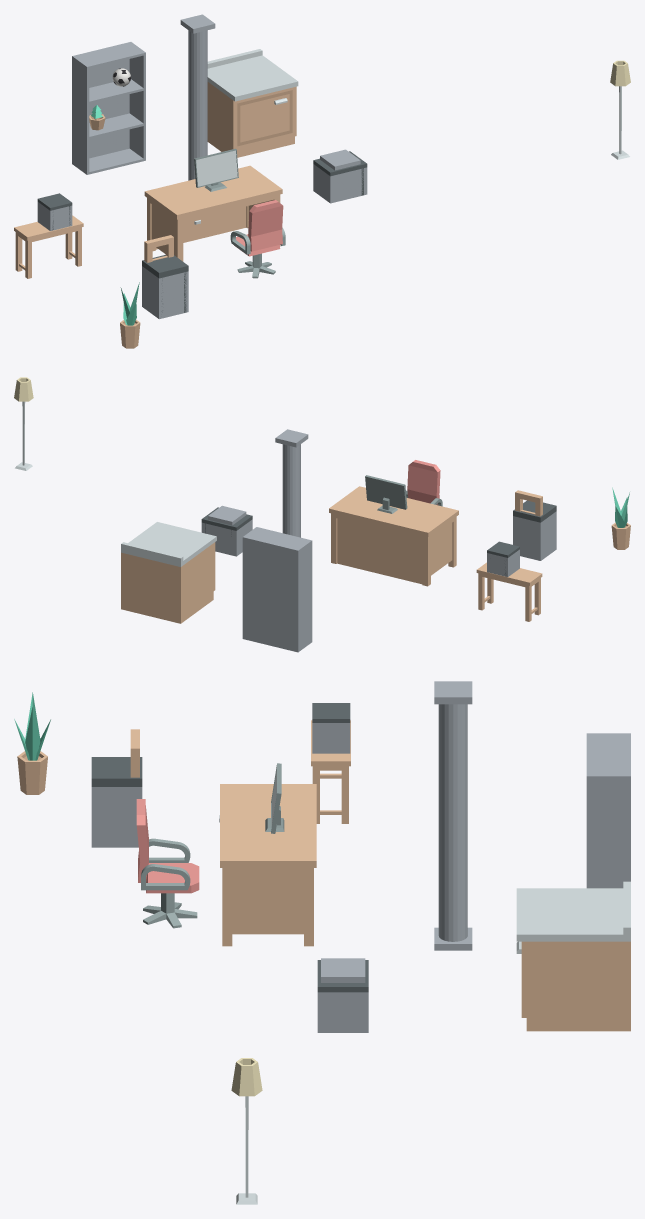
3 views of the same model, one above another, from view 1: azimuth 30°, elevation 25°; view 2: azimuth 150°, elevation 25°; view 3: azimuth 270°, elevation 25° (orthographic). The views are drawn at different scales.
Parts seen in each view (by area): view 1: desk_blue__desk(Clone), cabinet_blue__kitchenCabinet(Clone), column_cyan__column_cyan shaft, cabinet_blue__door, shelf_orange__shelf_orange back, deskchair_black__chair, shelf_orange__shelf_orange side_l, bin_gray__bin_gray shell, sidetable_brown__sideTable(Clone), crate_red__crate_red shell, monitor_gray__computerScreen(Clone), shelf_orange__shelf_orange side_r (+10 smaller); view 2: desk_blue__desk(Clone), cabinet_blue__kitchenCabinet(Clone), shelf_orange__shelf_orange back, shelf_orange__shelf_orange side_l, column_cyan__column_cyan shaft, bin_gray__bin_gray shell, sidetable_brown__sideTable(Clone), deskchair_black__chair, monitor_gray__computerScreen(Clone), crate_red__crate_red shell, shelf_orange__shelf_orange board3, lamp_white__lampRoundFloor(Clone) (+6 smaller); view 3: cabinet_blue__kitchenCabinet(Clone), desk_blue__desk(Clone), column_cyan__column_cyan shaft, shelf_orange__shelf_orange side_r, deskchair_black__chair, bin_gray__bin_gray shell, crate_red__crate_red shell, shelf_orange__shelf_orange board3, sidetable_brown__sideTable(Clone), lamp_white__lampRoundFloor(Clone), bin_gray__bin_gray lid, box_yellow__box_yellow shell (+7 smaller).
Boxes of the visible parts, x1,y1,x2,y2 form: desk_blue__desk(Clone): (144, 165, 282, 261); cabinet_blue__kitchenCabinet(Clone): (207, 49, 298, 157); column_cyan__column_cyan shaft: (188, 30, 207, 180); cabinet_blue__door: (237, 90, 292, 146); shelf_orange__shelf_orange back: (74, 42, 129, 158); deskchair_black__chair: (230, 200, 285, 256); shelf_orange__shelf_orange side_l: (72, 55, 89, 174); bin_gray__bin_gray shell: (142, 266, 188, 319); sidetable_brown__sideTable(Clone): (14, 215, 83, 278); crate_red__crate_red shell: (313, 164, 367, 203); monitor_gray__computerScreen(Clone): (194, 148, 238, 191); shelf_orange__shelf_orange side_r: (129, 42, 145, 160); desk_blue__desk(Clone): (329, 486, 458, 586); cabinet_blue__kitchenCabinet(Clone): (121, 522, 216, 623); shelf_orange__shelf_orange back: (244, 537, 296, 651); shelf_orange__shelf_orange side_l: (296, 540, 312, 652); column_cyan__column_cyan shaft: (282, 444, 300, 537); bin_gray__bin_gray shell: (513, 511, 556, 560); sidetable_brown__sideTable(Clone): (476, 562, 542, 621); deskchair_black__chair: (406, 460, 442, 506); monitor_gray__computerScreen(Clone): (365, 475, 407, 513); crate_red__crate_red shell: (201, 519, 252, 556); shelf_orange__shelf_orange board3: (246, 527, 309, 549); lamp_white__lampRoundFloor(Clone): (14, 377, 33, 470); cabinet_blue__kitchenCabinet(Clone): (516, 881, 630, 1031); desk_blue__desk(Clone): (220, 784, 316, 946); column_cyan__column_cyan shaft: (438, 704, 467, 941); shelf_orange__shelf_orange side_r: (586, 774, 630, 888); deskchair_black__chair: (136, 799, 199, 893); bin_gray__bin_gray shell: (91, 787, 142, 847); crate_red__crate_red shell: (317, 992, 368, 1032); shelf_orange__shelf_orange board3: (586, 734, 628, 774); sidetable_brown__sideTable(Clone): (311, 720, 350, 823); lamp_white__lampRoundFloor(Clone): (231, 1058, 262, 1204); bin_gray__bin_gray lid: (91, 757, 142, 786); box_yellow__box_yellow shell: (312, 723, 350, 753).
Size of the model in its own units: 7.86 by 2.2 by 4.86.
